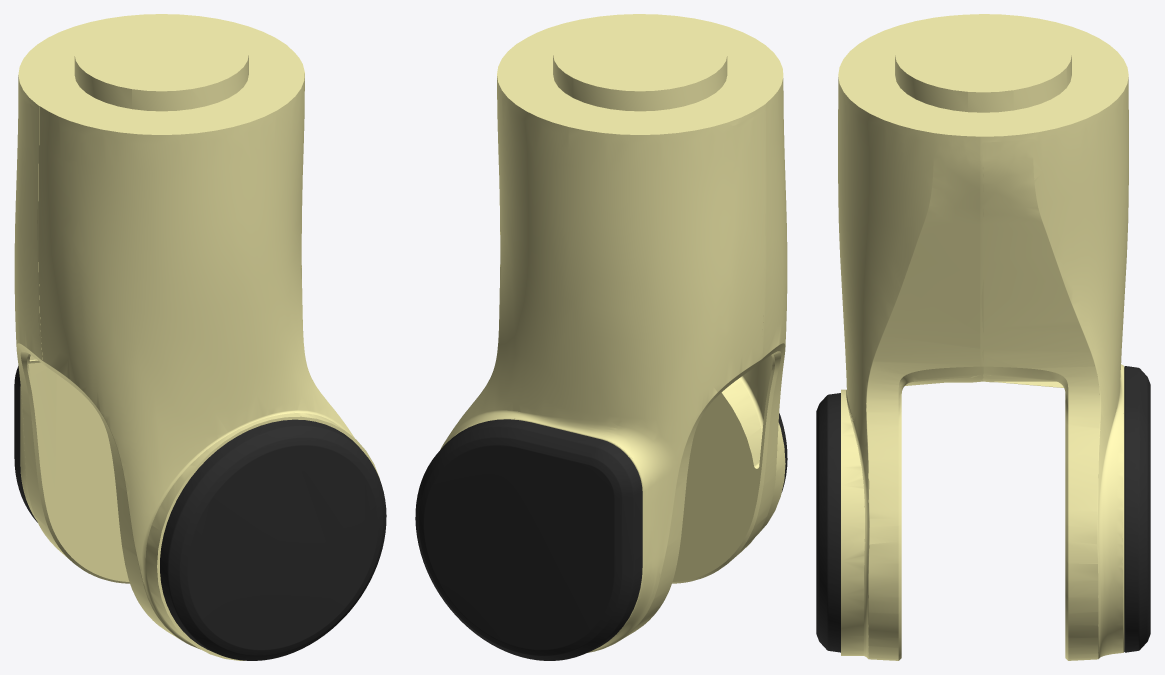
Rendered from elbow_pitch_r_j3_link.glb.
3 renders of one model, left to right at view 1: azimuth 30°, elevation 25°; view 2: azimuth 150°, elevation 25°; view 3: azimuth 270°, elevation 25°, orthographic.
Parts seen in each view (by area): view 1: Mesh_0.033; view 2: Mesh_0.033; view 3: Mesh_0.033.
Part boxes in pixels (bbox=[...]): Mesh_0.033: bbox=[14, 14, 386, 660]; Mesh_0.033: bbox=[415, 14, 787, 660]; Mesh_0.033: bbox=[816, 14, 1150, 660].
Size of the model in its own units: 0.1089 by 0.2092 by 0.1104.
Materials: 2 (1 with a texture image).
